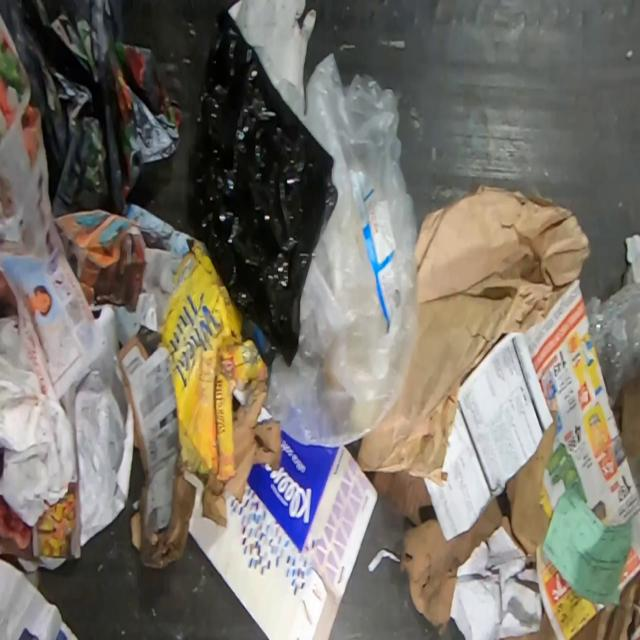cardboard: (182, 431, 380, 640), (157, 236, 281, 527), (398, 423, 556, 636), (116, 333, 194, 569), (568, 569, 640, 640), (612, 375, 640, 500), (499, 609, 558, 640)
soft_plastic: (262, 52, 419, 448), (186, 9, 336, 367), (0, 0, 184, 220), (586, 281, 640, 410)
